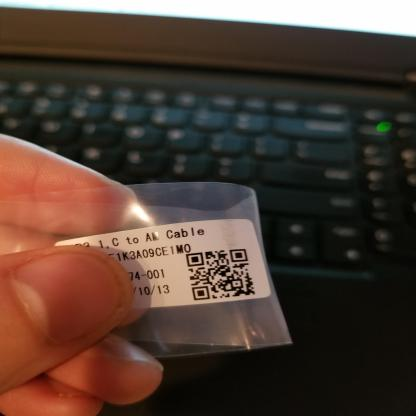qr: (183, 242, 262, 307)
